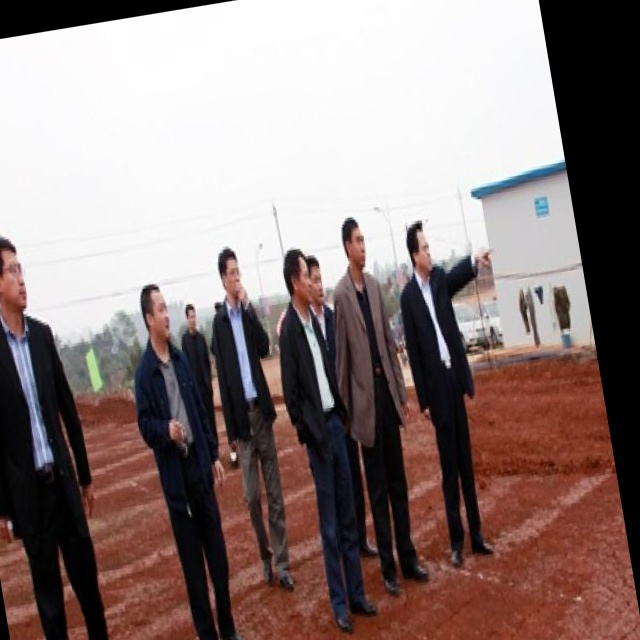Sin_Casco_Mascarrilla: (0, 230, 29, 315), (137, 281, 172, 346), (403, 218, 434, 277), (338, 213, 369, 272)
